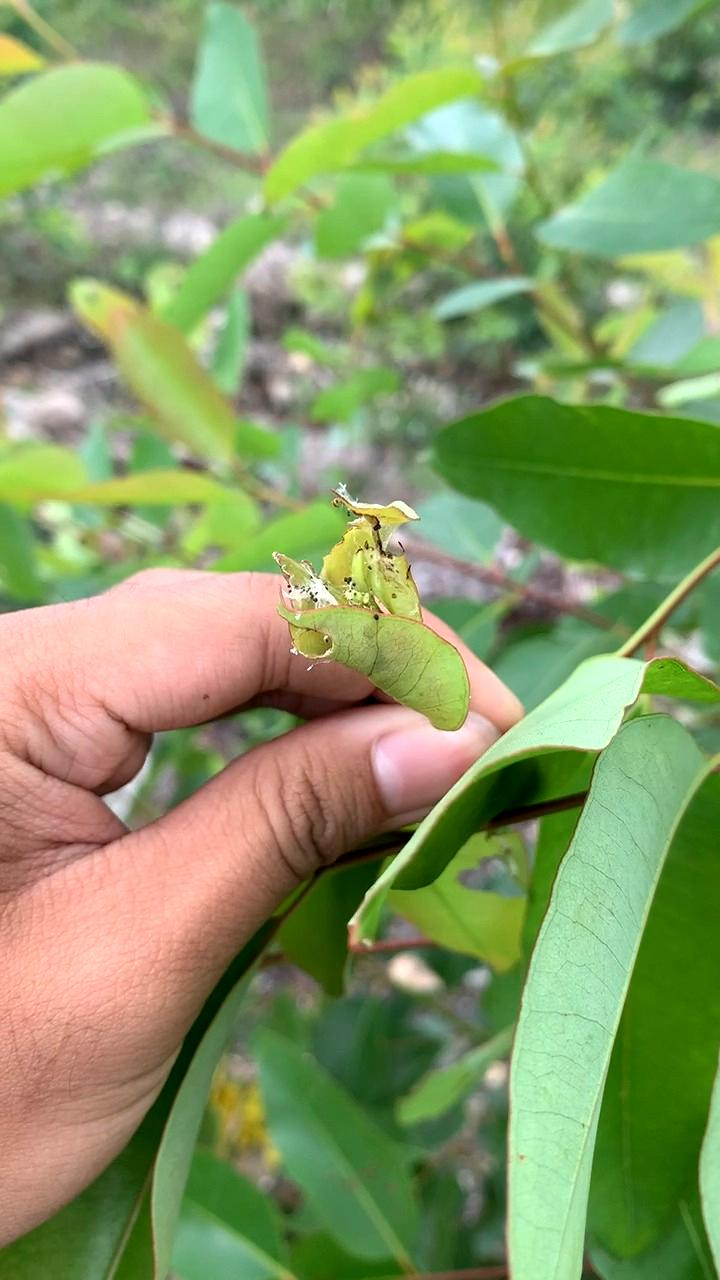Leaf Roller - Leaf: (276, 483, 475, 733)
